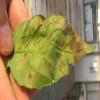Tomato mold leaf: (10, 13, 97, 94)
